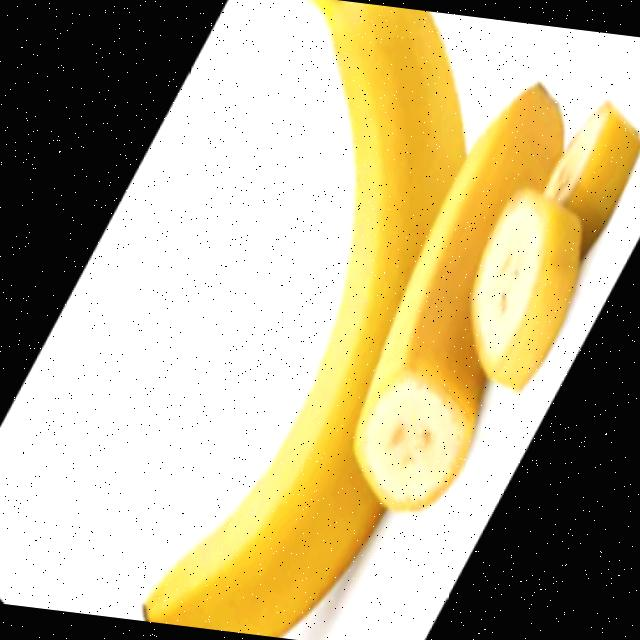banana: (104, 0, 575, 640)
